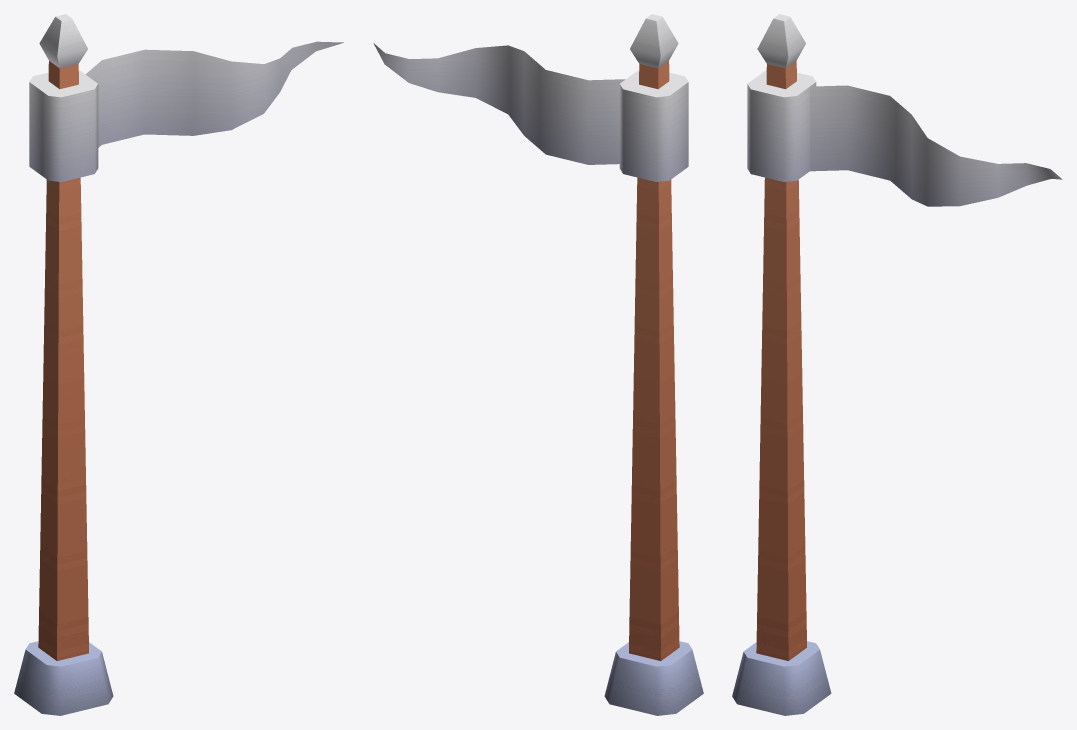
File: flag-high-pennant.002_lev2.glb
3 views of the same model, side by side, from view 1: azimuth 30°, elevation 25°; view 2: azimuth 150°, elevation 25°; view 3: azimuth 330°, elevation 25° (orthographic).
Visible parts, largest first — view 1: flag-high-pennant.002_lev2; view 2: flag-high-pennant.002_lev2; view 3: flag-high-pennant.002_lev2.
Boxes of the visible parts, x1,y1,x2,y2 form: flag-high-pennant.002_lev2: [14, 14, 343, 715]; flag-high-pennant.002_lev2: [373, 14, 703, 715]; flag-high-pennant.002_lev2: [732, 14, 1062, 715].
Size of the model in its own units: 3.71 by 7.58 by 0.8401.
1 material, 1 textured.
